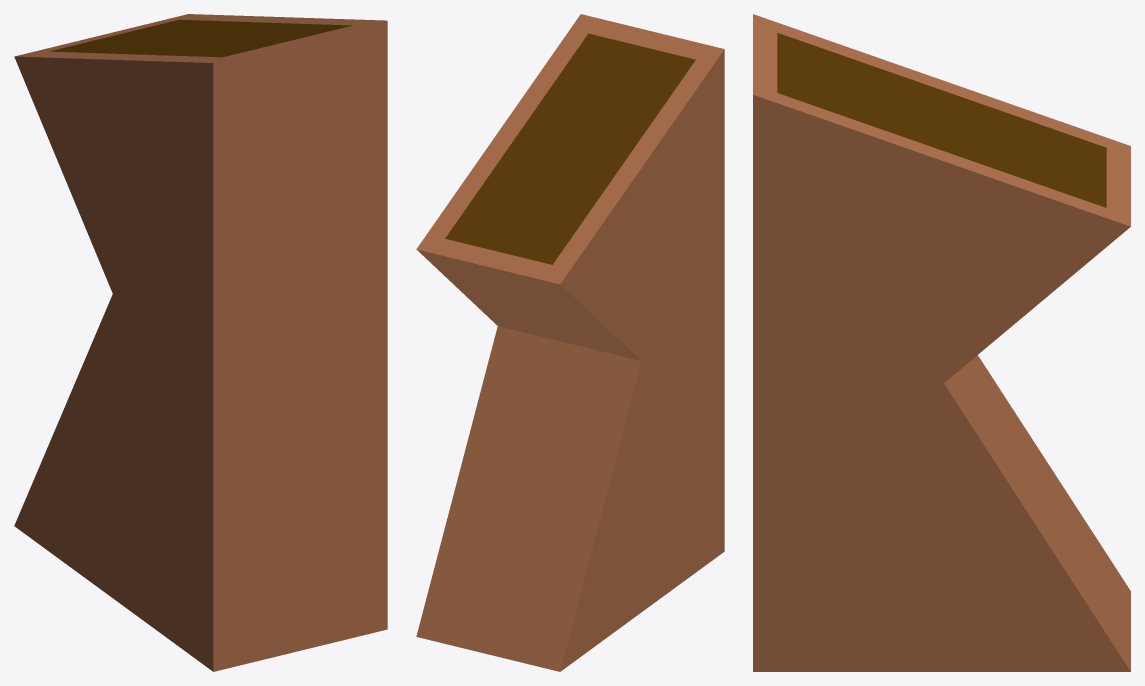
Rendered from knife_stand.fbx.
The picture shows the model from 3 angles, left to right: view 1: azimuth 30°, elevation 25°; view 2: azimuth 150°, elevation 25°; view 3: azimuth 270°, elevation 25°; orthographic projection. The views are drawn at different scales.
Parts seen in each view (by area): view 1: knife_stand; view 2: knife_stand; view 3: knife_stand.
Boxes of the visible parts, left/top/right/bottom form: knife_stand: left=14, top=14, right=387, bottom=671; knife_stand: left=416, top=14, right=724, bottom=671; knife_stand: left=753, top=14, right=1130, bottom=671.
Size of the model in its own units: 2 by 3.96 by 6.67.
